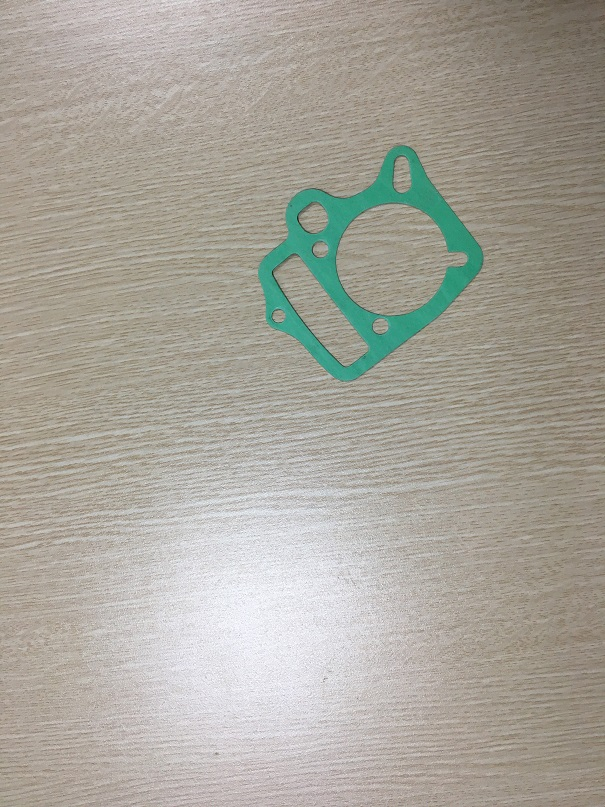type4: (252, 138, 487, 386)
